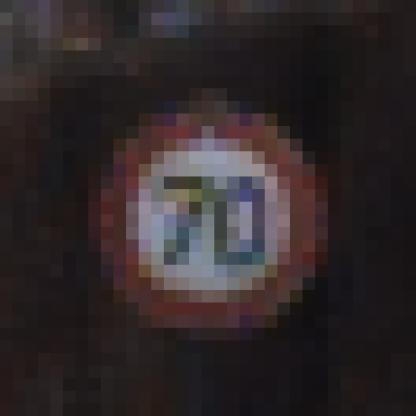Speed Limit 70: (99, 113, 320, 330)
